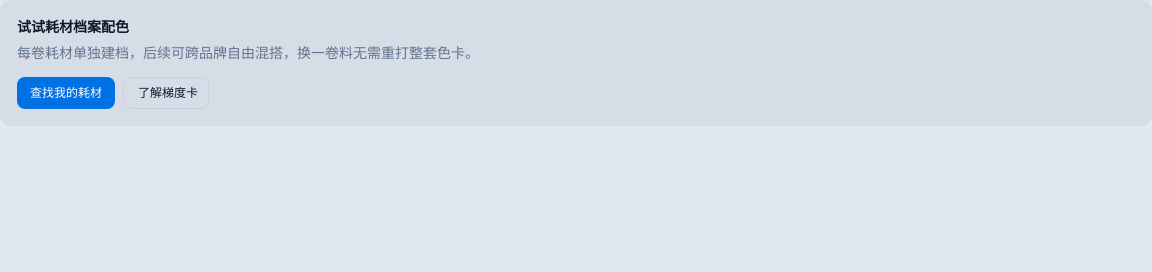
Scenario: material archive migration guide › explains calibration only on request and lets the user start finding profiles
Earlier steps of the test are not shown.
Later steps or results of the test are not shown.
Expected: the text "梯度卡用于建立单种耗材" is not shown
Click the button "了解梯度卡": [166, 93] box left=123, top=77, right=209, bottom=109
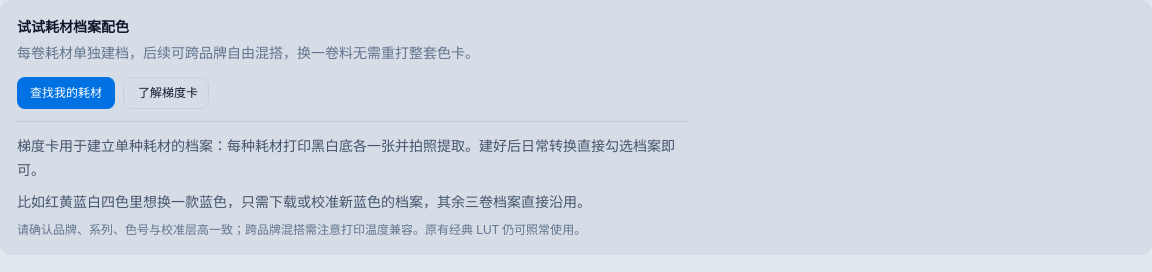
Expected: the text "梯度卡用于建立单种耗材的档案：每种耗材打印黑白底各一张并拍照提取。建好后日常转换直接勾选档案即可。" is shown, left=17, top=134, right=689, bottom=182
